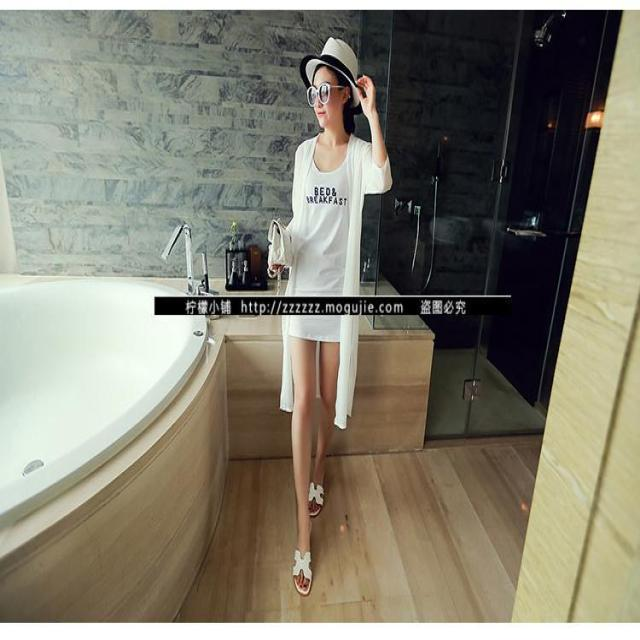long-sleeve-dress: (258, 105, 403, 440)
